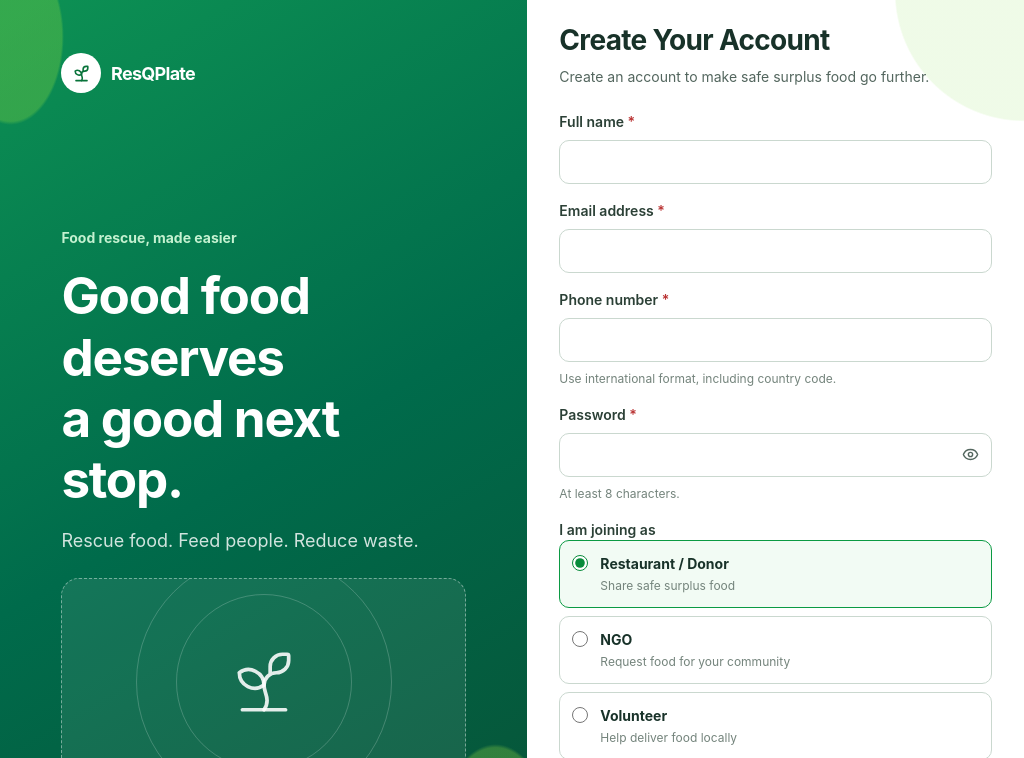
Test: NGO organization and contact registration › uses the existing NGO role provisioning flow and skips duplicate profile onboarding
Type "Asha Kumar" into the field labelled "Full name" at (776, 162), box [559, 140, 992, 184]
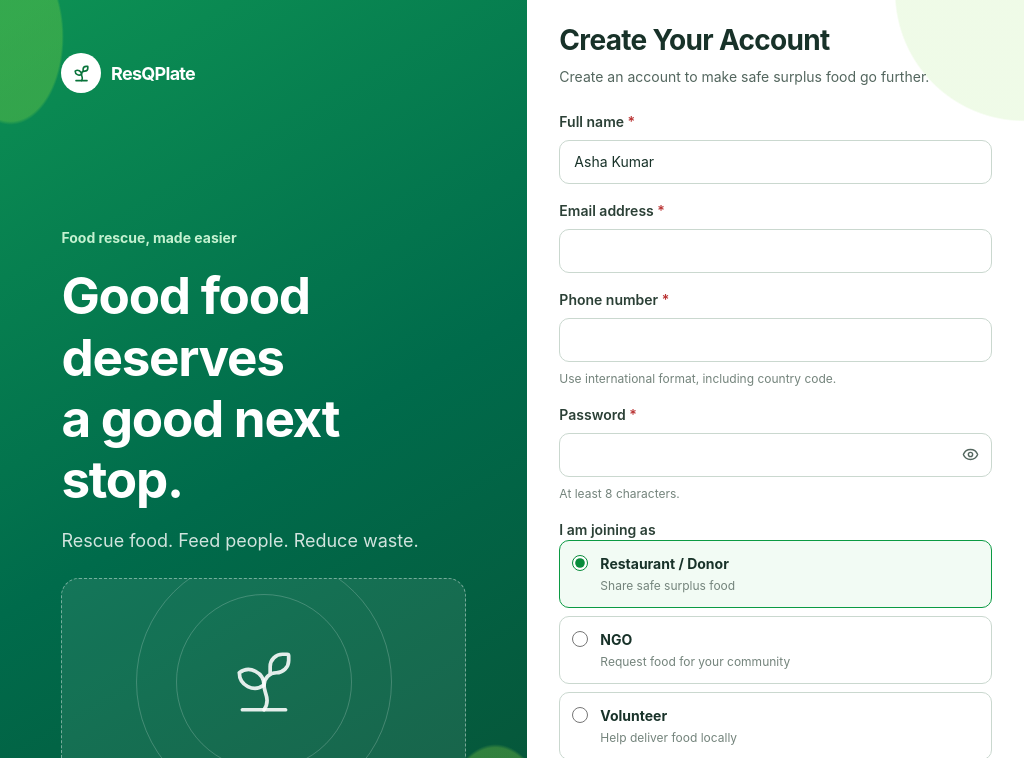
Type "asha@example.org" into the field labelled "Email address" at (776, 251), box [559, 229, 992, 273]
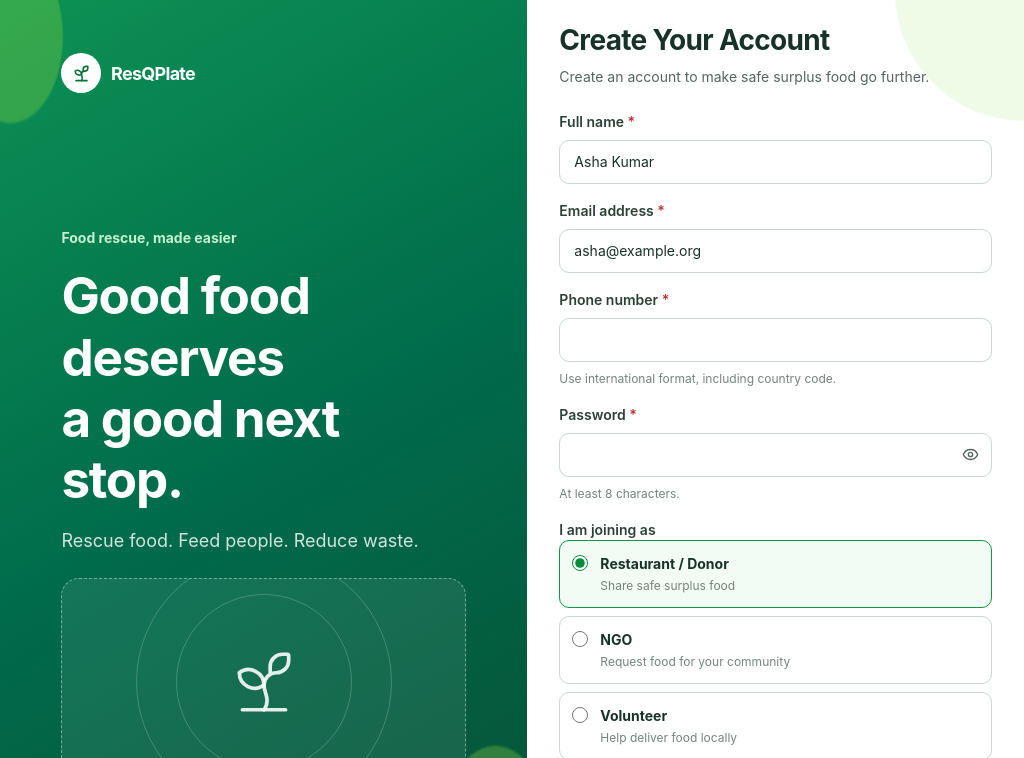
Type "+14155552671" into the field labelled "Phone number" at (776, 340), box [559, 318, 992, 362]
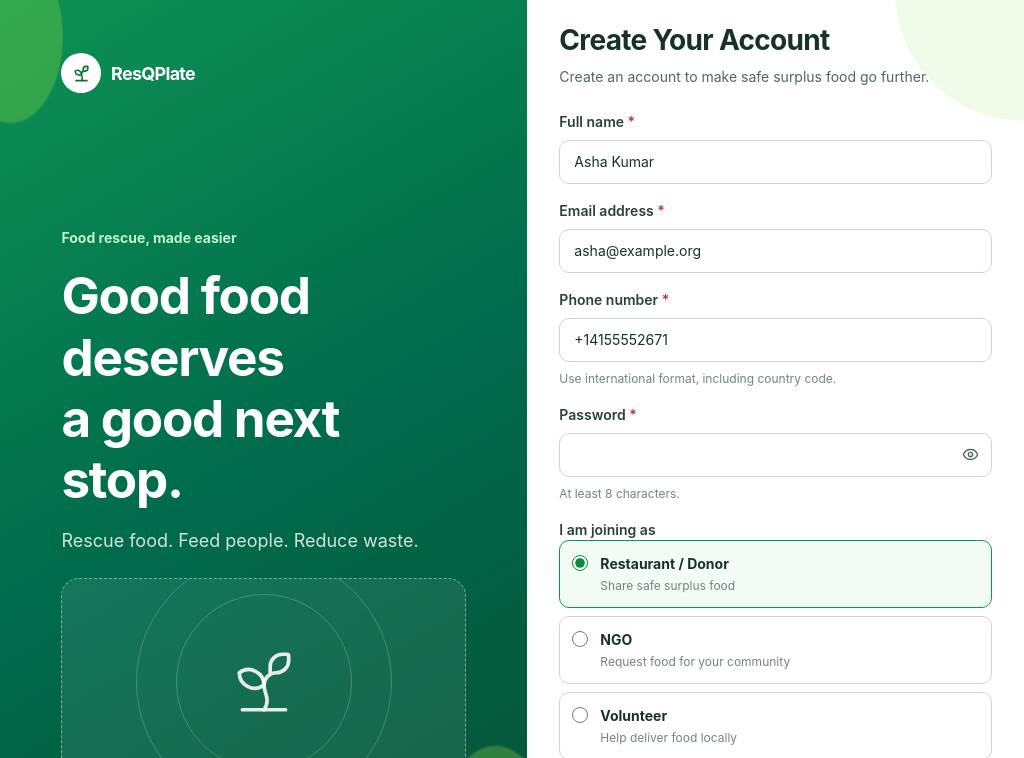
Type "safe-password" into the password field labelled "Password *" at (776, 455), box [559, 433, 992, 477]
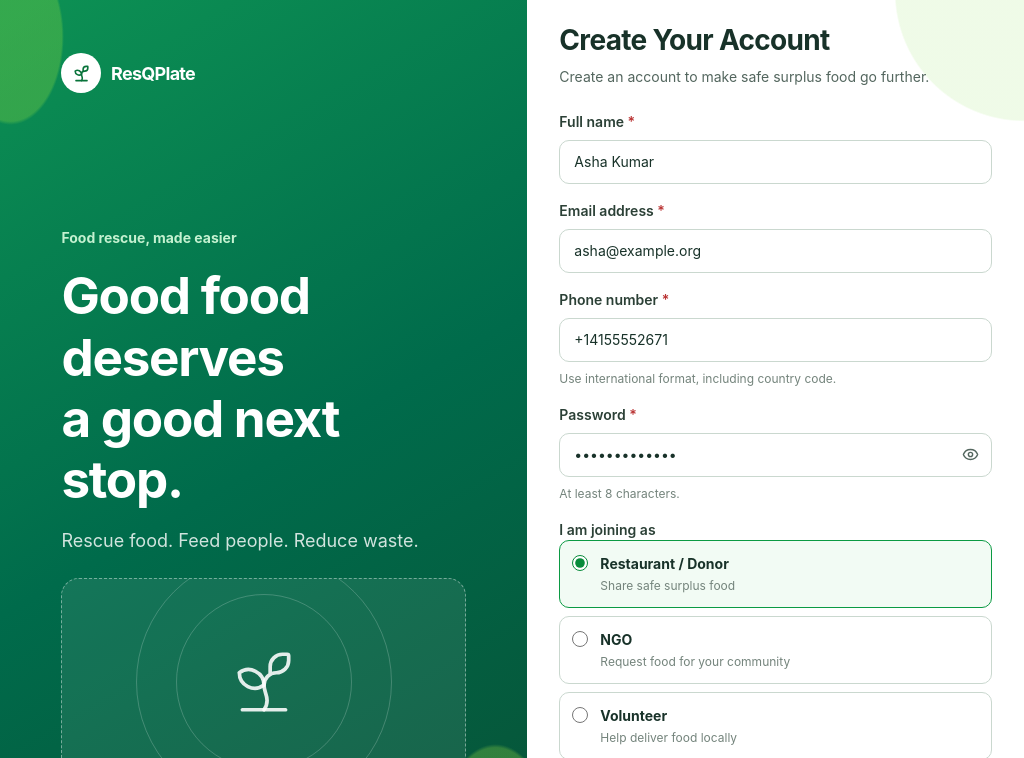
Click the radio button labelled "NGO Request food for your community" at (580, 639), box [572, 631, 588, 647]
(page scrolled)
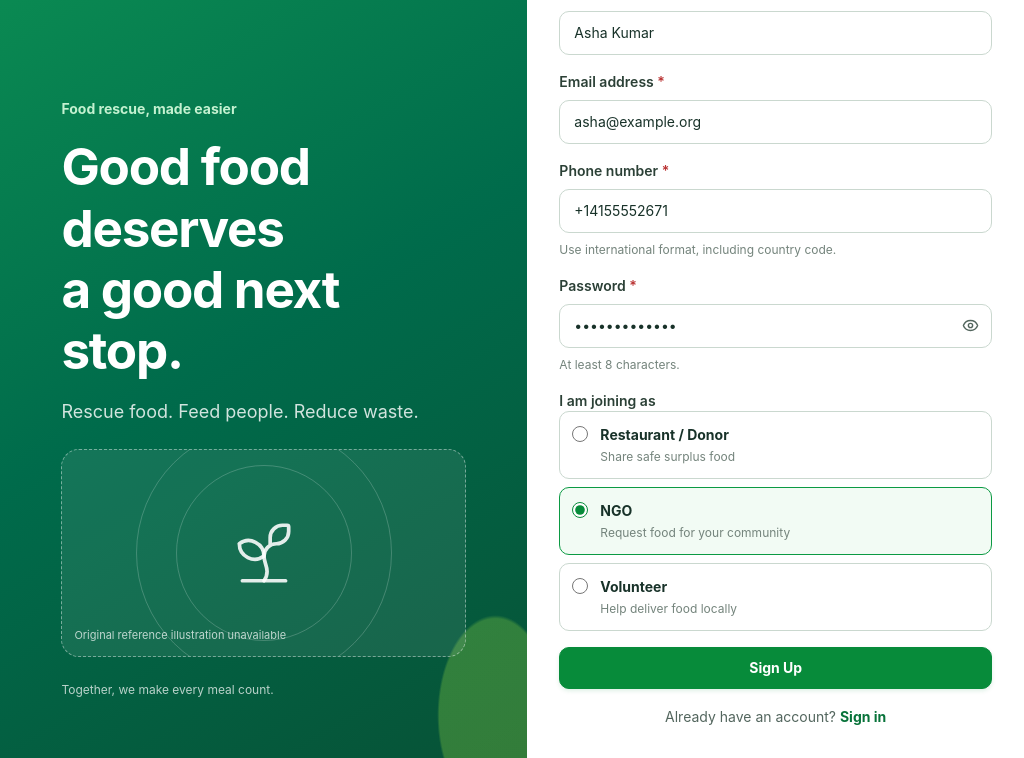
Click the button "Sign Up" at (776, 668), box [559, 647, 992, 689]
(page scrolled)
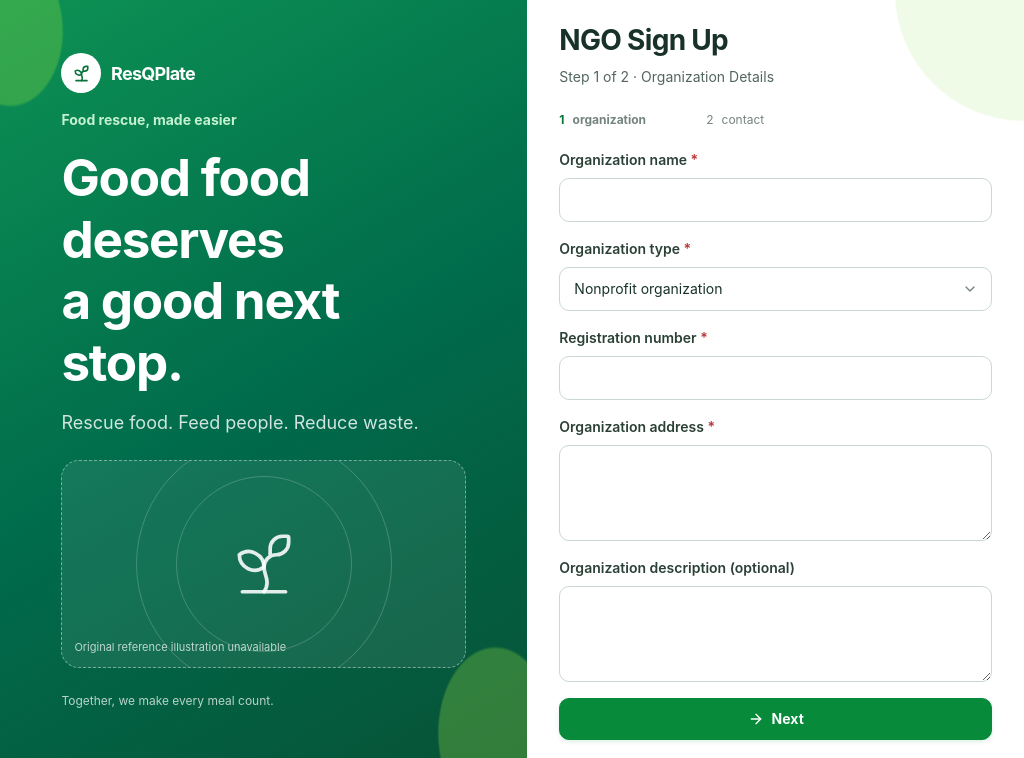
Result: the text "Step 1 of 2 · Organization Details" is shown at [559, 68, 774, 85]
